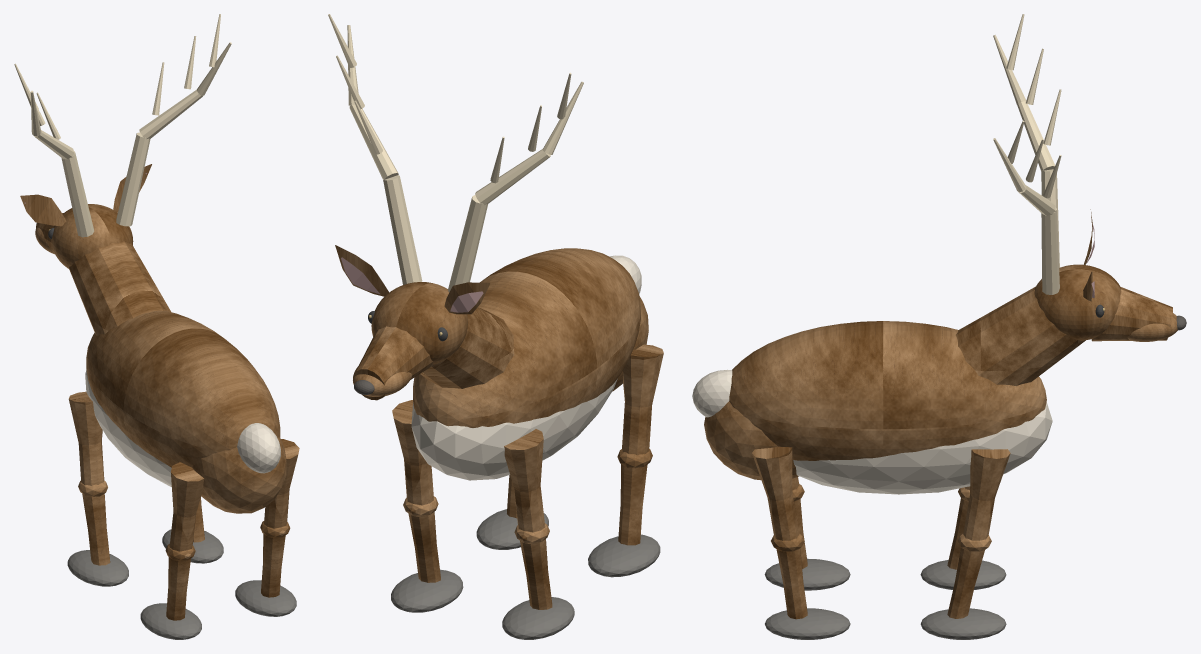
The model's file is Deer_Stag.glb.
The picture shows the model from 3 angles, left to right: view 1: azimuth 30°, elevation 25°; view 2: azimuth 150°, elevation 25°; view 3: azimuth 270°, elevation 25°; orthographic projection. The views are drawn at different scales.
Parts seen in each view (by area): view 1: Baked_Deer hide, Baked_Antler, Baked_Hoof keratin, leg_fl, leg_bl, Baked_Cream fur, leg_br; view 2: Baked_Deer hide, Baked_Antler, Baked_Hoof keratin, Baked_Cream fur, leg_bl, leg_fl, leg_fr, Baked_Ear inside; view 3: Baked_Deer hide, Baked_Cream fur, Baked_Hoof keratin, Baked_Antler, leg_br, leg_fr, leg_fl.
Boxes of the visible parts, box(x1,y1,x2,y2) form: Baked_Deer hide: box(20, 164, 286, 513); Baked_Antler: box(14, 14, 231, 237); Baked_Hoof keratin: box(67, 529, 296, 639); leg_fl: box(68, 391, 110, 565); leg_bl: box(165, 462, 204, 620); Baked_Cream fur: box(85, 369, 280, 486); leg_br: box(260, 439, 299, 597); Baked_Deer hide: box(335, 245, 648, 427); Baked_Antler: box(328, 14, 583, 292); Baked_Hoof keratin: box(391, 509, 660, 639); Baked_Cream fur: box(411, 255, 641, 480); leg_bl: box(617, 344, 663, 545); leg_fl: box(504, 429, 552, 609); leg_fr: box(392, 400, 440, 582); Baked_Ear inside: box(341, 257, 483, 312); Baked_Deer hide: box(704, 209, 1177, 480); Baked_Cream fur: box(692, 369, 1052, 494); Baked_Hoof keratin: box(764, 558, 1006, 639); Baked_Antler: box(993, 14, 1061, 294); leg_br: box(752, 446, 807, 619); leg_fr: box(947, 449, 1010, 618); leg_fl: box(947, 486, 969, 569).
Size of the model in its own units: 1.31 by 3.07 by 2.54.
Materials: 8 (2 with a texture image).
